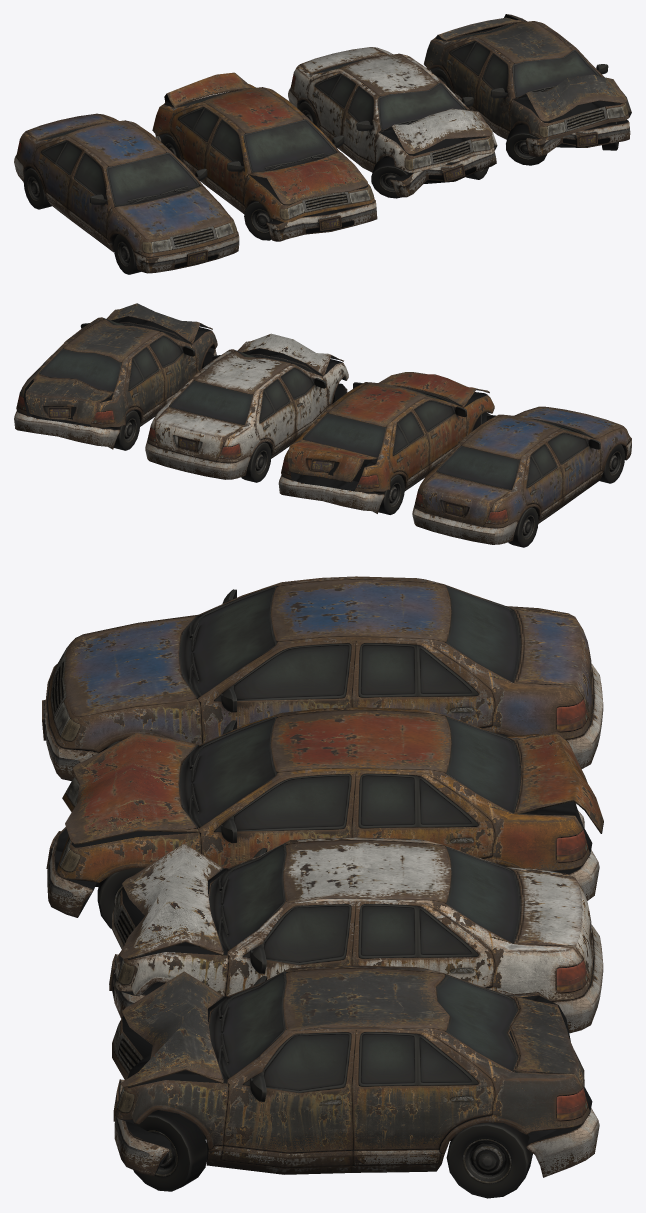
File: cars.FBX
3 renders of one model, top to bottom at view 1: azimuth 30°, elevation 25°; view 2: azimuth 150°, elevation 25°; view 3: azimuth 270°, elevation 25°, orthographic. The views are drawn at different scales.
Parts seen in each view (by area): view 1: 003, 3, 1, Object001; view 2: 003, 3, 1, Object001; view 3: Object001, 3, 003, 1.
Part boxes in pixels (x1,y1,x2,y2): 003: (14,113,239,274); 3: (152,72,377,241); 1: (288,47,497,198); Object001: (424,14,631,165); 003: (412,406,631,547); 3: (278,372,494,514); 1: (145,333,348,482); Object001: (14,303,217,450); Object001: (112,965,599,1198); 3: (46,707,603,928); 003: (42,576,603,780); 1: (109,837,603,1033).
Bounding box in the file's own units: 1024 × 151 × 487.
Materials: 4 (4 with a texture image).
